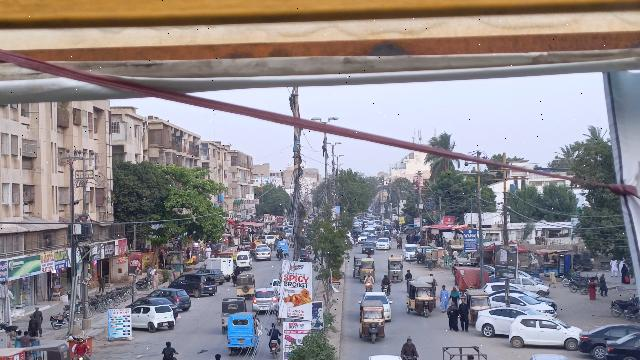Bike: (267, 339, 284, 360), (363, 281, 375, 293), (381, 283, 392, 294)
Car: (509, 314, 582, 349), (577, 321, 637, 358), (474, 306, 542, 338), (170, 271, 218, 297), (131, 305, 176, 332), (604, 332, 640, 360), (149, 288, 190, 309), (251, 288, 279, 312)
Person: (458, 299, 471, 333), (446, 301, 460, 331), (161, 340, 180, 359), (400, 336, 418, 355), (33, 304, 43, 334), (438, 284, 448, 313), (266, 321, 282, 339), (449, 284, 462, 303), (27, 314, 37, 337), (363, 271, 374, 284), (381, 274, 391, 286)
Rickshaw: (225, 313, 260, 356), (357, 300, 386, 344), (405, 280, 438, 318), (465, 290, 490, 323), (219, 296, 245, 325), (386, 254, 404, 284), (235, 274, 256, 298), (359, 257, 376, 283)
Truck: (201, 256, 235, 278)
